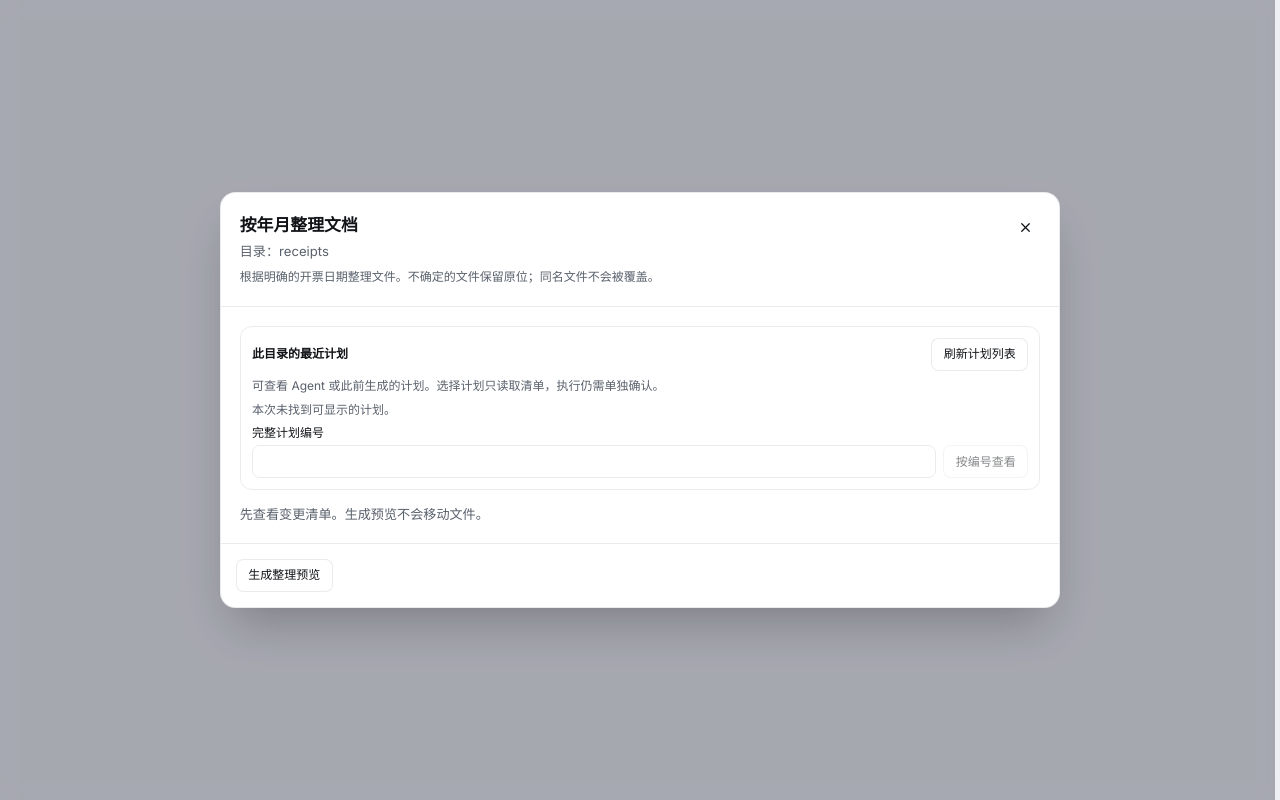
Test case: NAS document organization flow › does not retry finalization while any file outcome remains unknown
Click the button "生成整理预览" at (284, 575), box [236, 559, 332, 592]
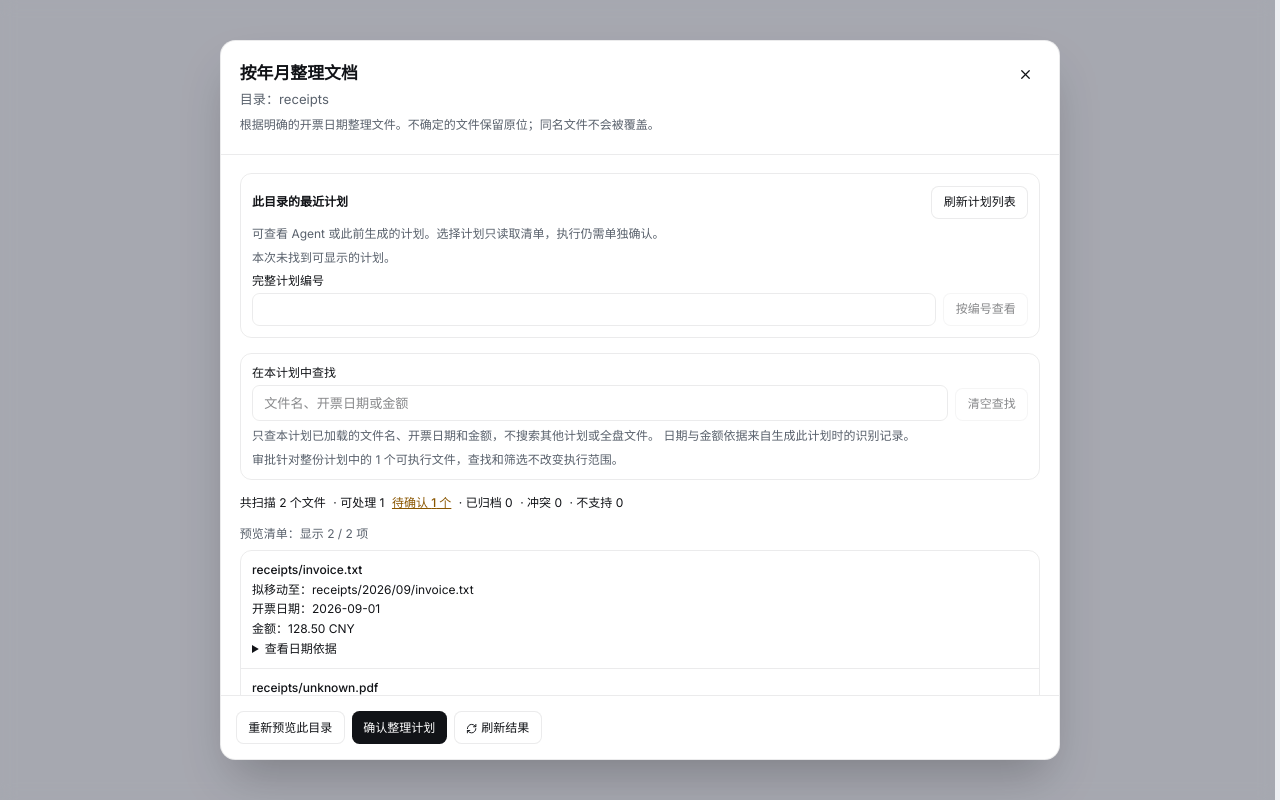
Check: the text "拟移动至：receipts/2026/09/invoice.txt" is shown, box [252, 582, 474, 596]
Click the button "确认整理计划" at (399, 728), box [352, 711, 446, 744]
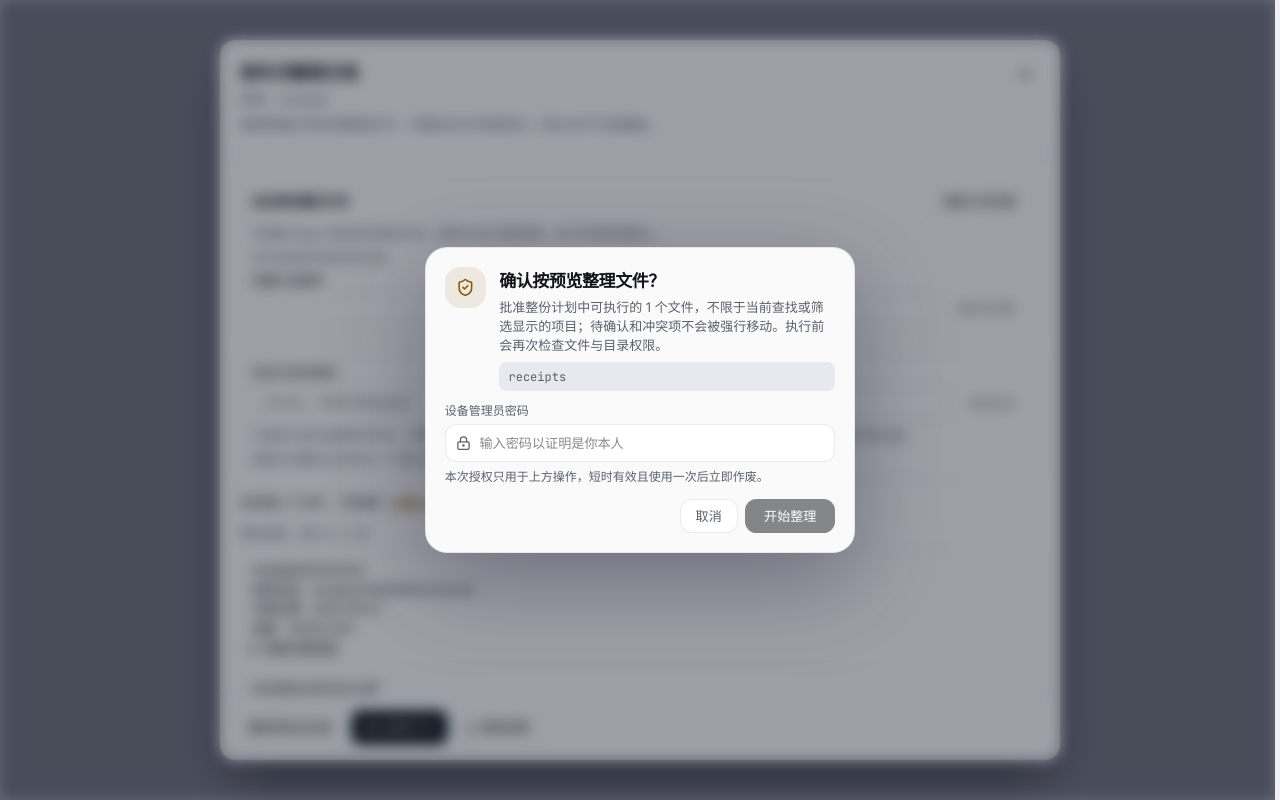
Type "synthetic-password" into the password field labelled "设备管理员密码" at (640, 443), box [445, 424, 835, 462]
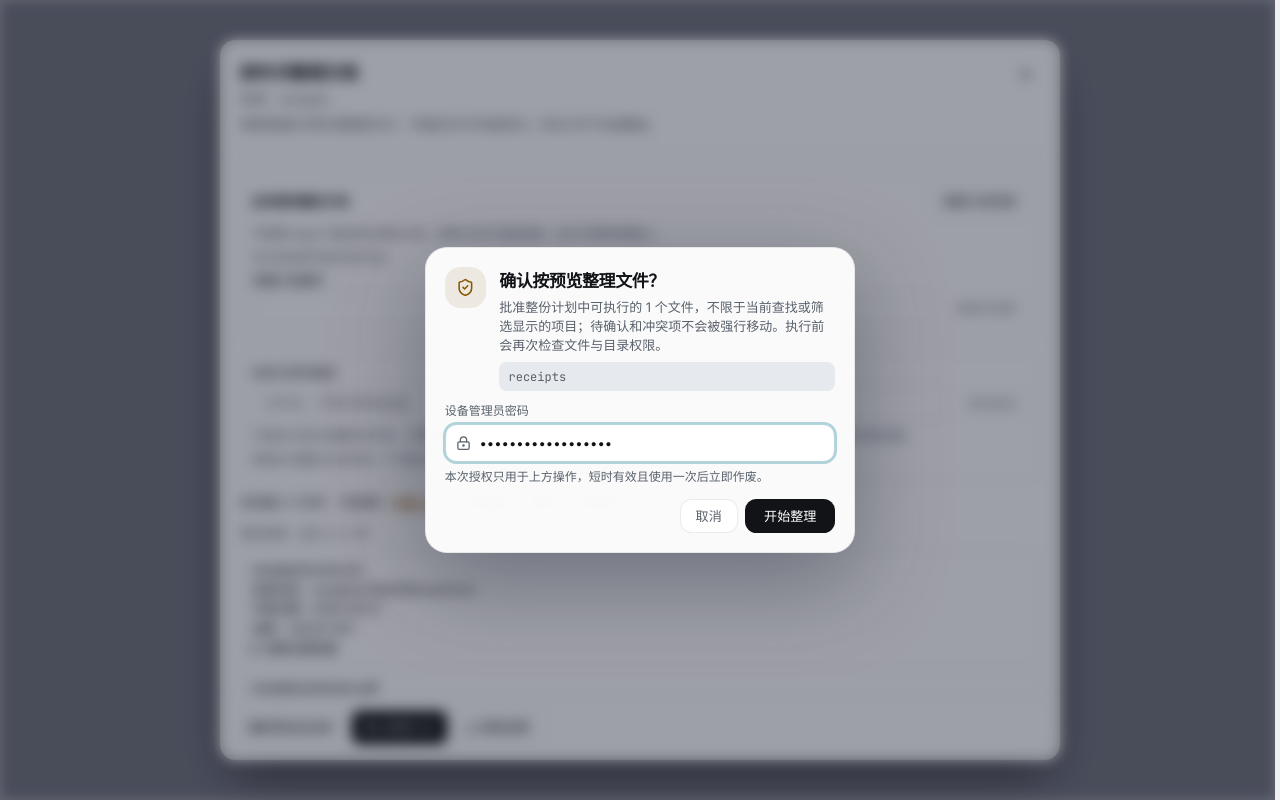
Click the button "开始整理" at (790, 516), box [745, 499, 835, 533]
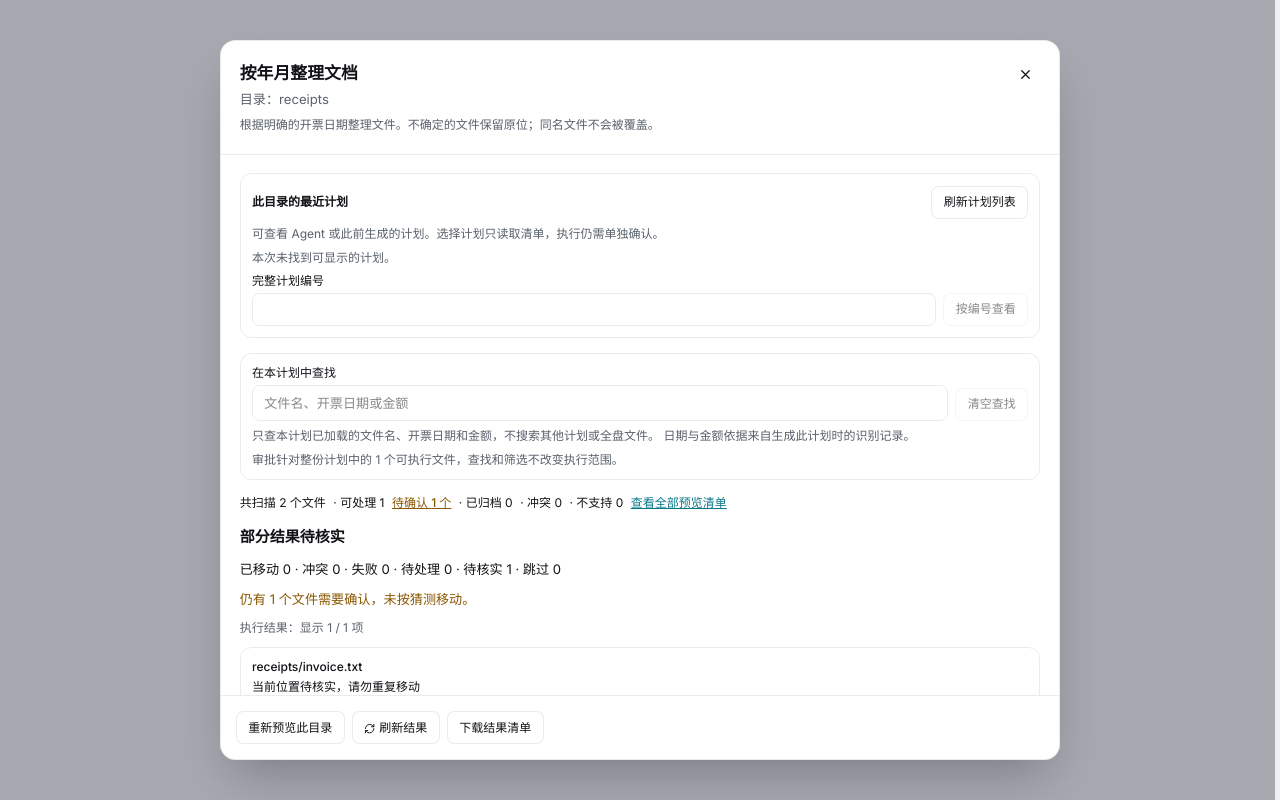
Check: the heading "部分结果待核实" is shown, box [240, 527, 345, 546]
